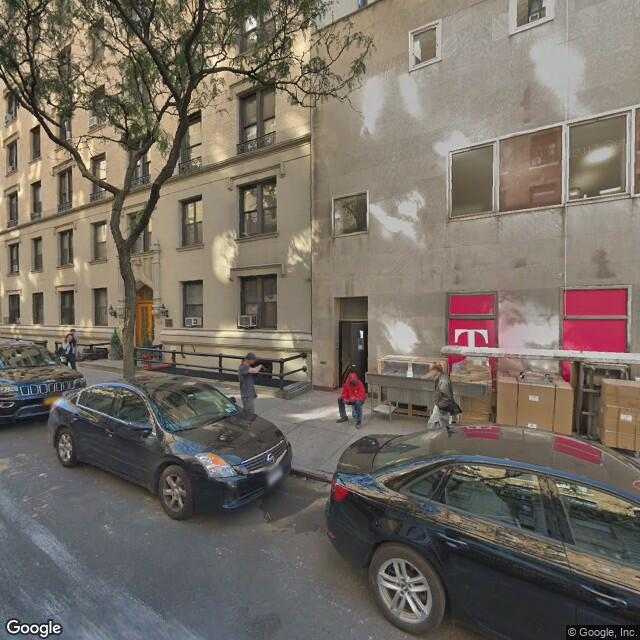window: (499, 130, 562, 208), (567, 117, 625, 199), (450, 145, 493, 215), (239, 181, 277, 236), (239, 89, 274, 148), (240, 275, 276, 329), (333, 194, 366, 234), (180, 198, 204, 247), (181, 119, 201, 171), (182, 279, 203, 327), (91, 222, 107, 261), (95, 285, 108, 326), (59, 172, 73, 208), (59, 228, 72, 266), (61, 291, 73, 324), (33, 237, 43, 271)
